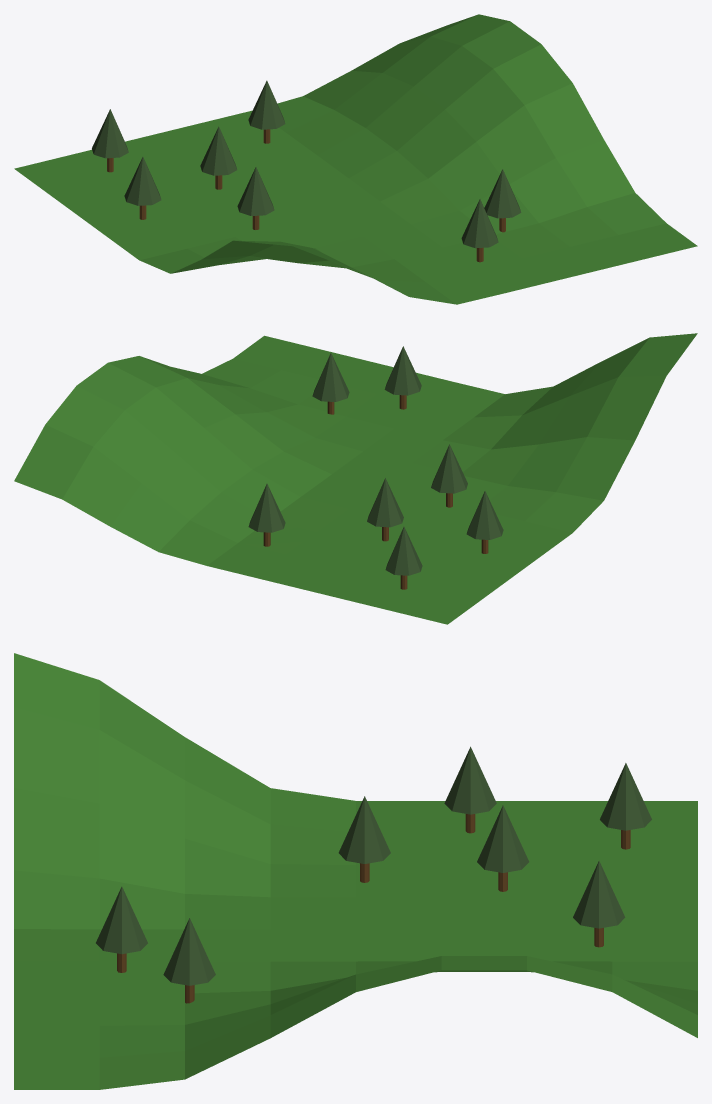
The model's file is navMesh.gltf.
The picture shows the model from 3 angles, top to bottom: view 1: azimuth 30°, elevation 25°; view 2: azimuth 150°, elevation 25°; view 3: azimuth 270°, elevation 25°; orthographic projection. The views are drawn at different scales.
Parts seen in each view (by area): view 1: Terrain; view 2: Terrain; view 3: Terrain.
Boxes of the visible parts, x1,y1,x2,y2 form: Terrain: (14, 14, 697, 304); Terrain: (14, 333, 697, 624); Terrain: (14, 653, 697, 1089).
Size of the model in its own units: 26.02 by 6.22 by 26.02.
1 material, 1 textured.
